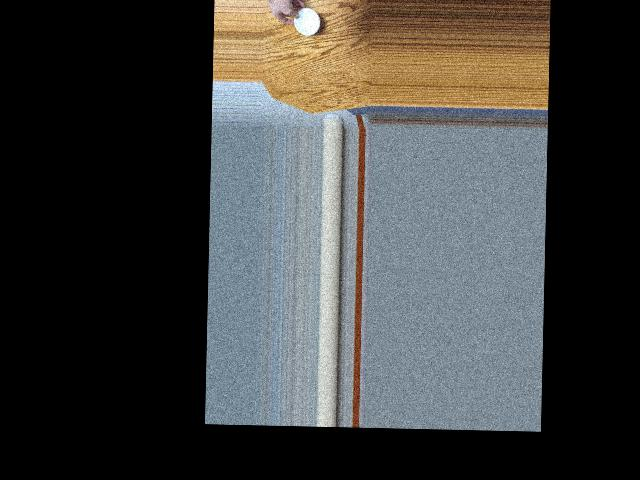cotage: (288, 0, 321, 36)
